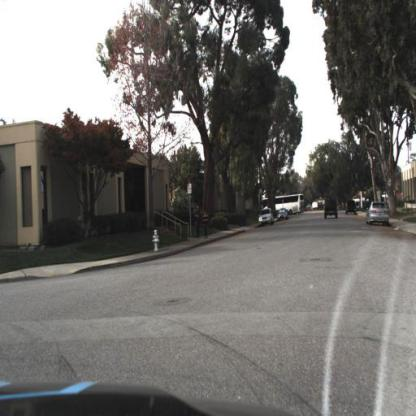car: (267, 195, 305, 216), (259, 208, 276, 227), (279, 206, 291, 222)
pedestrian: (193, 205, 203, 240), (203, 208, 213, 240), (202, 208, 210, 236), (195, 212, 202, 238)
truck: (270, 193, 311, 215)
